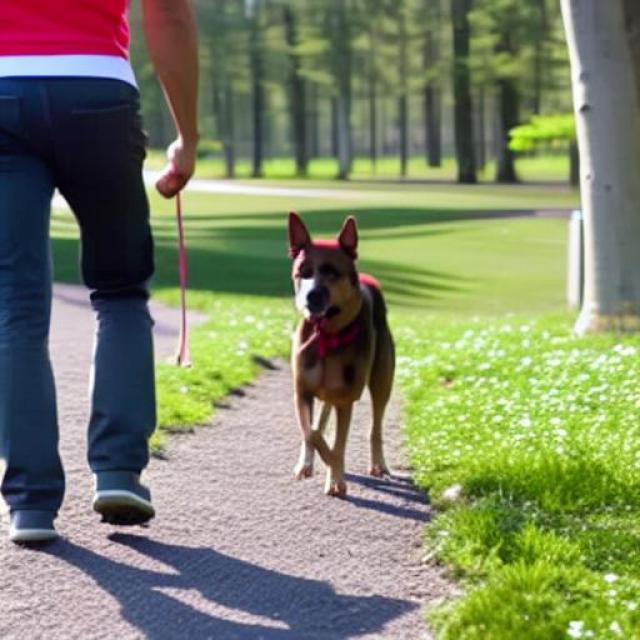Unleashed_Dog: (0, 75, 396, 501)
